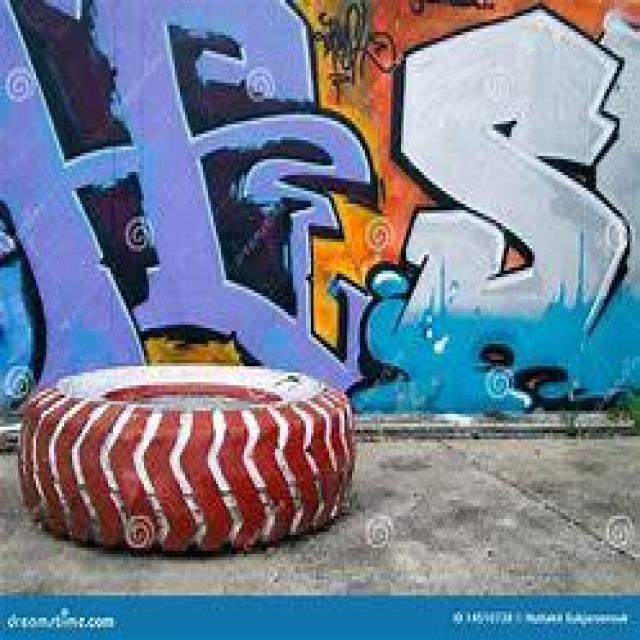nonspitting: (0, 0, 368, 384), (360, 0, 640, 420), (305, 0, 393, 95)
